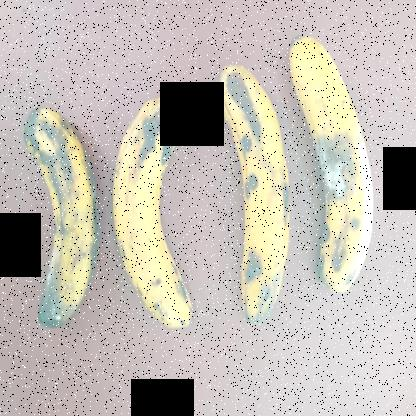overripe: (215, 67, 308, 336), (113, 76, 204, 346)
rotten: (12, 68, 106, 358), (285, 35, 381, 314)
